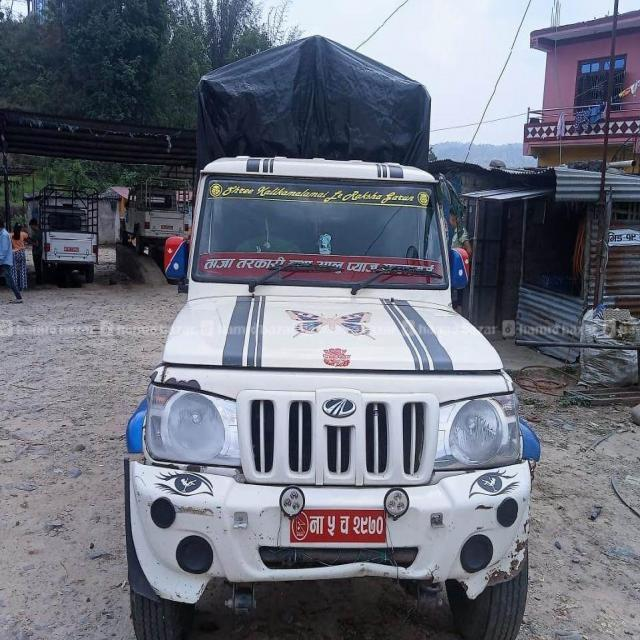License-plate: (290, 505, 386, 542)
